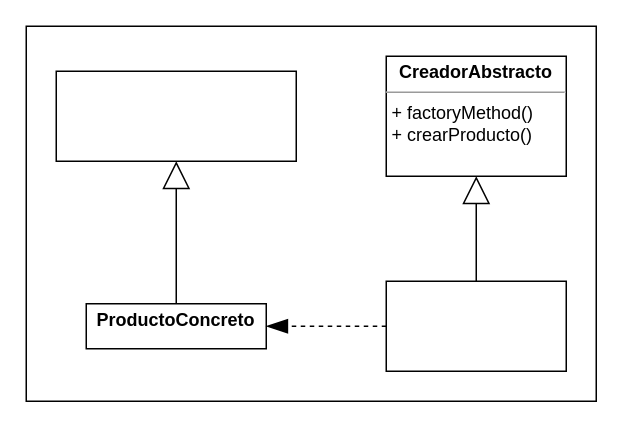
Some shapes in this 623 by 428 pixel diagram are drawn without their labels. Each missing label, with the centre of its shape:
"CreadorConcreto + factoryMethod()" goes at point 475,325.
"EjemploFactoryMethod operacion() : void" goes at point 175,115.
